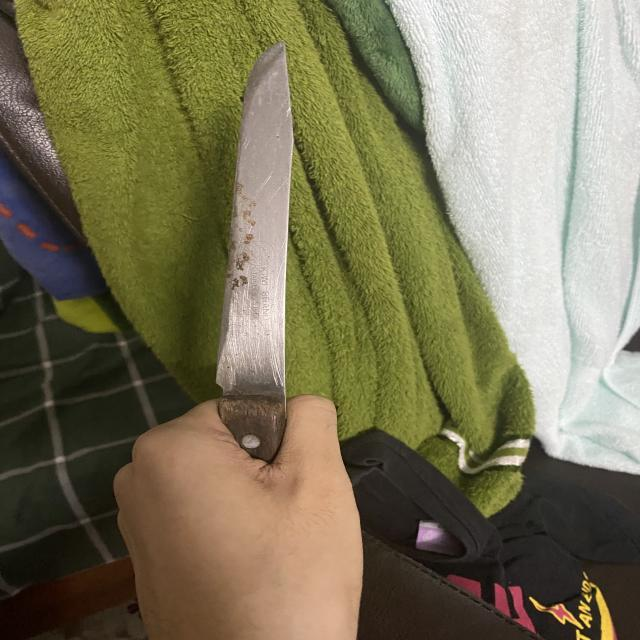faca: (102, 38, 412, 582)
